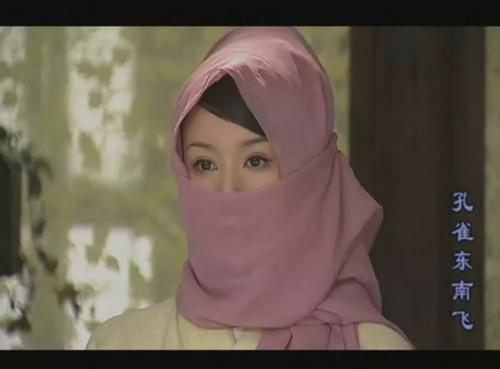WRONG: (177, 132, 305, 260)
